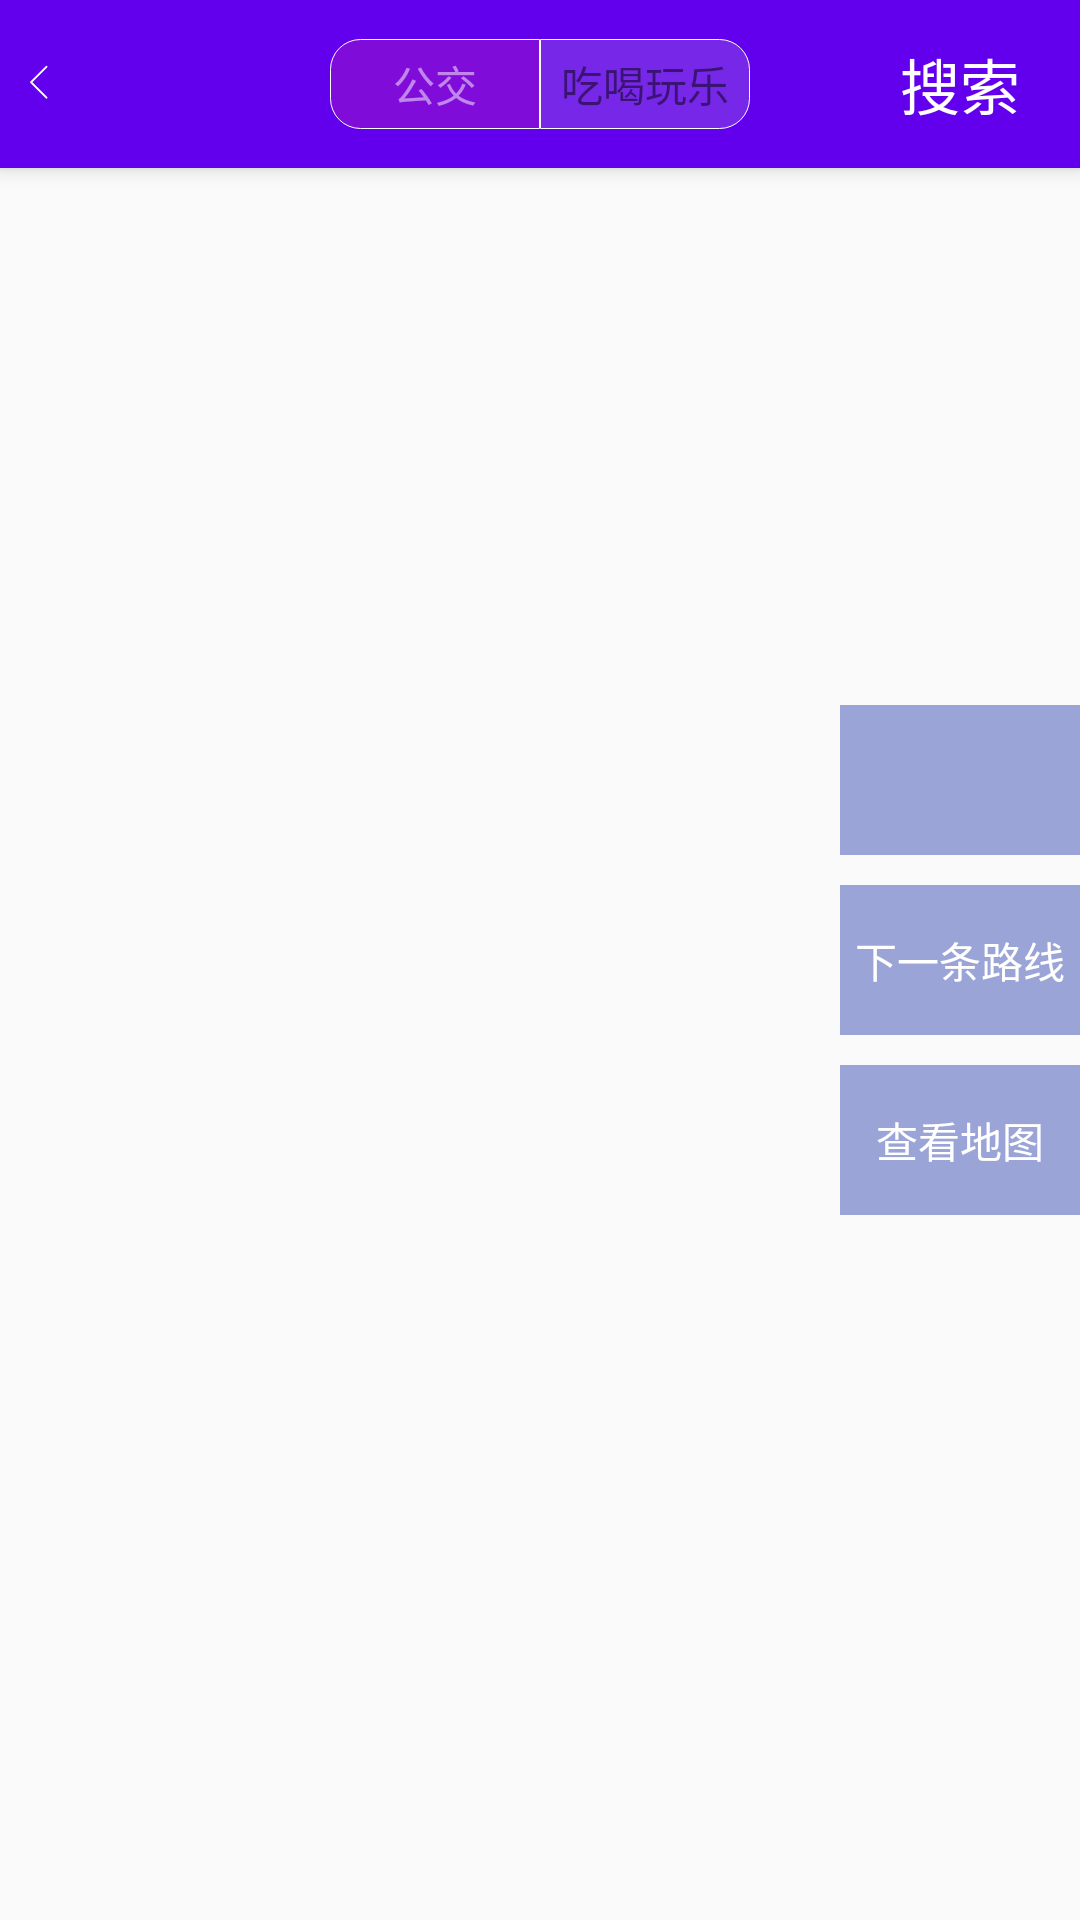

Point at icon controls on the screen. Image size 1080×1920, points as point (x, y).
back: point (39, 82)
